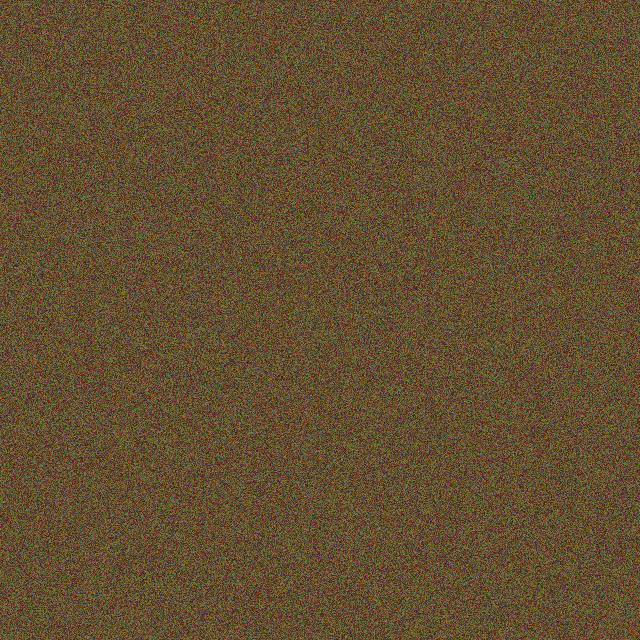unknown_man_made_object: (256, 423, 362, 494)
